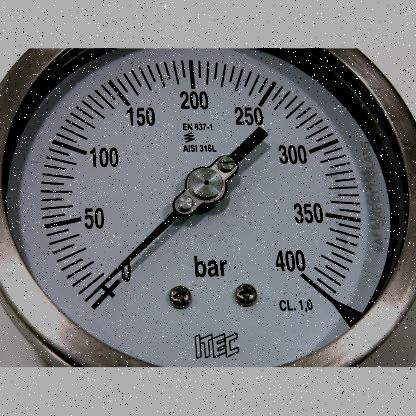needle: (92, 210, 182, 296)
